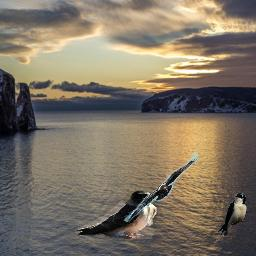Crow: (123, 151, 200, 222)
Swallow: (74, 190, 158, 239), (217, 193, 247, 238)
